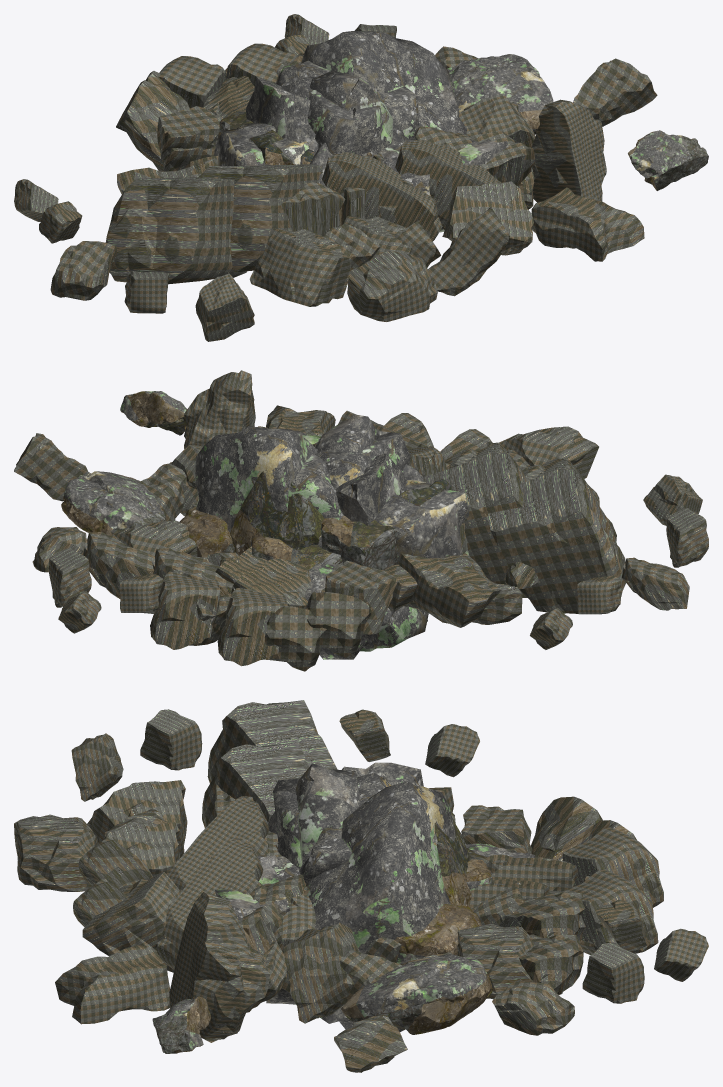
The model's file is _Rocks.fbx.
3 views of the same model, one above another, from view 1: azimuth 30°, elevation 25°; view 2: azimuth 150°, elevation 25°; view 3: azimuth 270°, elevation 25° (orthographic). The views are drawn at different scales.
Parts seen in each view (by area): view 1: Rocks_11_v1, Rocks_10_v1, Rocks_09_v1, Rocks_06_v1, Rocks_03_v1, Rocks_07_v1, Rocks_05_v1, Rocks_08_v1; view 2: Rocks_11_v1, Rocks_10_v1, Rocks_09_v1, Rocks_05_v1, Rocks_03_v1, Rocks_07_v1, Rocks_01_v1, Rocks_06_v1, Rocks_08_v1; view 3: Rocks_11_v1, Rocks_10_v1, Rocks_09_v1, Rocks_05_v1, Rocks_07_v1, Rocks_06_v1, Rocks_03_v1, Rocks_01_v1, Rocks_08_v1.
Part boxes in pixels (x1,y1,x2,y2): Rocks_11_v1: (14,14,708,341); Rocks_10_v1: (145,43,518,296); Rocks_09_v1: (214,31,508,232); Rocks_06_v1: (308,89,391,157); Rocks_03_v1: (245,76,310,143); Rocks_07_v1: (276,60,418,283); Rocks_05_v1: (309,70,395,144); Rocks_08_v1: (280,77,318,152); Rocks_11_v1: (14,370,708,666); Rocks_10_v1: (83,413,527,671); Rocks_09_v1: (195,426,469,600); Rocks_05_v1: (315,414,428,648); Rocks_03_v1: (336,453,427,651); Rocks_07_v1: (251,446,366,659); Rocks_01_v1: (250,536,343,569); Rocks_06_v1: (331,431,410,520); Rocks_08_v1: (314,450,373,485); Rocks_11_v1: (14,700,708,1072); Rocks_10_v1: (73,742,658,1004); Rocks_09_v1: (215,781,535,1031); Rocks_05_v1: (295,763,359,870); Rocks_07_v1: (266,798,447,1004); Rocks_06_v1: (273,778,359,868); Rocks_03_v1: (320,762,423,1023); Rocks_01_v1: (466,848,492,890); Rocks_08_v1: (339,773,391,1029).
Size of the model in its own units: 693 by 227 by 582.
